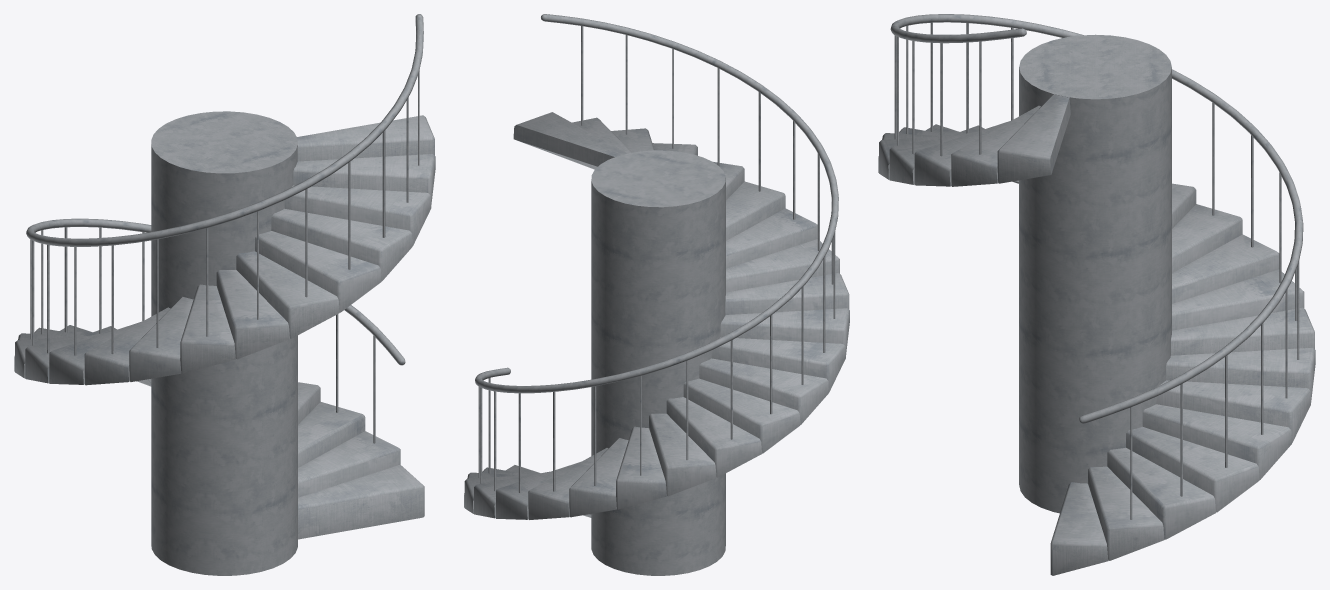
Rendered from Stairs.fbx.
3 views of the same model, side by side, from view 1: azimuth 30°, elevation 25°; view 2: azimuth 150°, elevation 25°; view 3: azimuth 270°, elevation 25° (orthographic). The views are drawn at different scales.
Parts seen in each view (by area): view 1: Cub_0, Ff_1, sd_2, te_3; view 2: Cub_0, Ff_1, sd_2, te_3; view 3: Ff_1, Cub_0, sd_2, te_3.
Part boxes in pixels (<box>): Cub_0: <box>14,115,435,539</box>; Ff_1: <box>151,111,297,575</box>; sd_2: <box>26,14,423,365</box>; te_3: <box>30,70,419,443</box>; Cub_0: <box>464,112,849,519</box>; Ff_1: <box>591,150,725,575</box>; sd_2: <box>475,14,838,393</box>; te_3: <box>478,26,835,492</box>; Ff_1: <box>1019,34,1171,513</box>; Cub_0: <box>878,94,1315,575</box>; sd_2: <box>890,14,1303,423</box>; te_3: <box>894,22,1299,519</box>.
Size of the model in its own units: 1186 by 1607 by 1186.
Materials: 3 (3 with a texture image).
